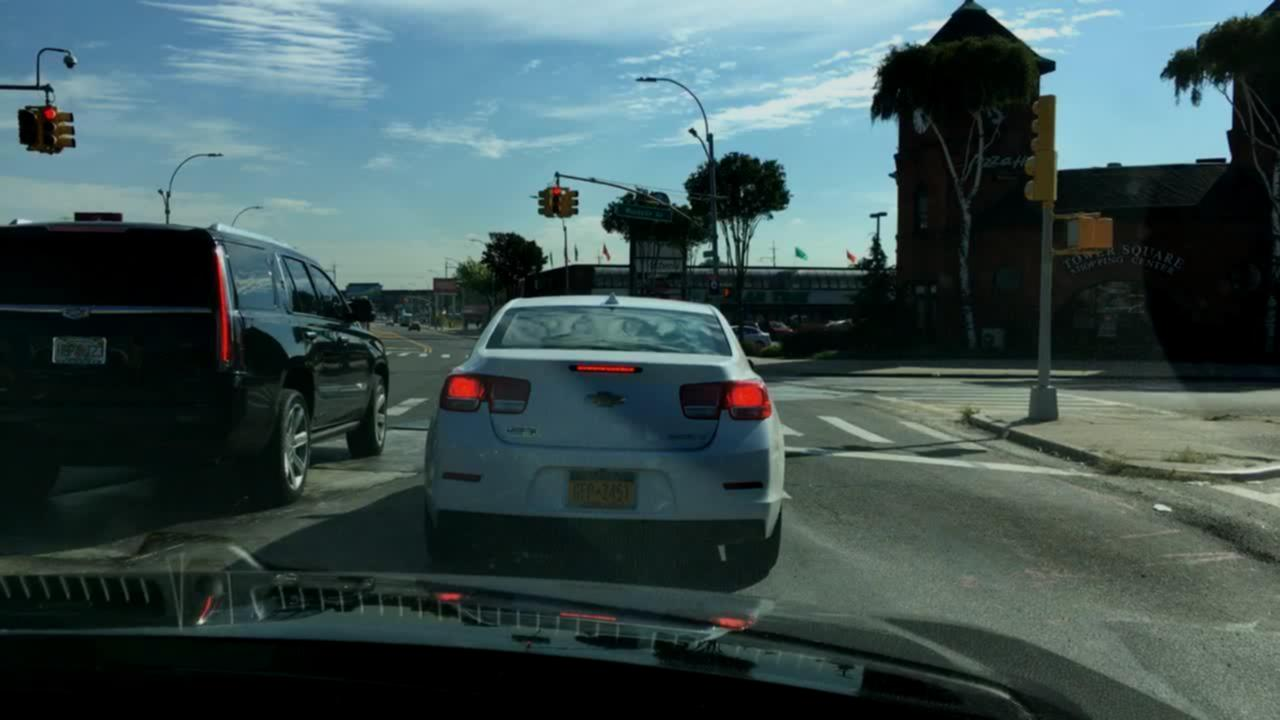cadillac: (57, 300, 99, 328)
chevrolet: (577, 383, 633, 413)
